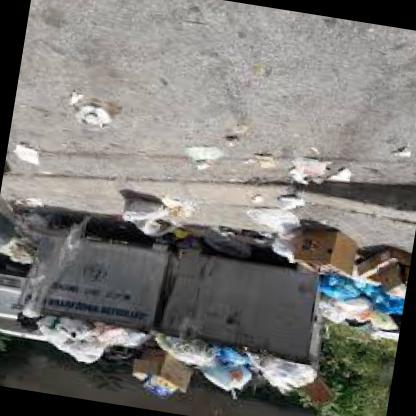Garbage: (120, 178, 412, 275), (38, 322, 310, 408), (320, 236, 411, 334), (246, 140, 376, 198), (126, 333, 212, 410), (26, 314, 113, 368), (0, 193, 47, 278), (173, 131, 236, 177), (200, 356, 264, 393), (256, 358, 306, 401), (118, 189, 168, 231), (204, 225, 268, 257), (11, 134, 64, 170), (360, 280, 404, 320), (319, 274, 366, 310), (386, 137, 415, 167)
